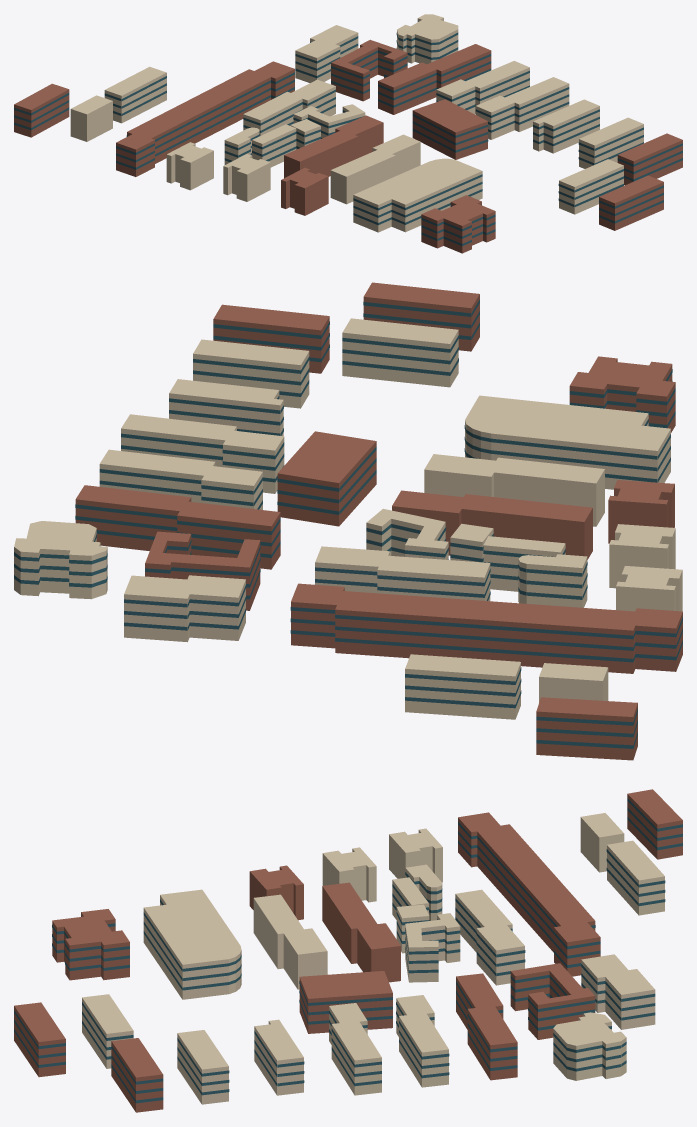
The model's file is city_6_-3.glb.
3 renders of one model, top to bottom at view 1: azimuth 30°, elevation 25°; view 2: azimuth 150°, elevation 25°; view 3: azimuth 270°, elevation 25°, orthographic. The views are drawn at different scales.
Visible parts, largest first — view 1: city_6_-3; view 2: city_6_-3; view 3: city_6_-3.
Part boxes in pixels (x1=…): city_6_-3: x1=14, y1=14, x2=682, y2=253; city_6_-3: x1=14, y1=282, x2=682, y2=760; city_6_-3: x1=14, y1=789, x2=682, y2=1112.
Size of the model in its own units: 264 by 15 by 259.
